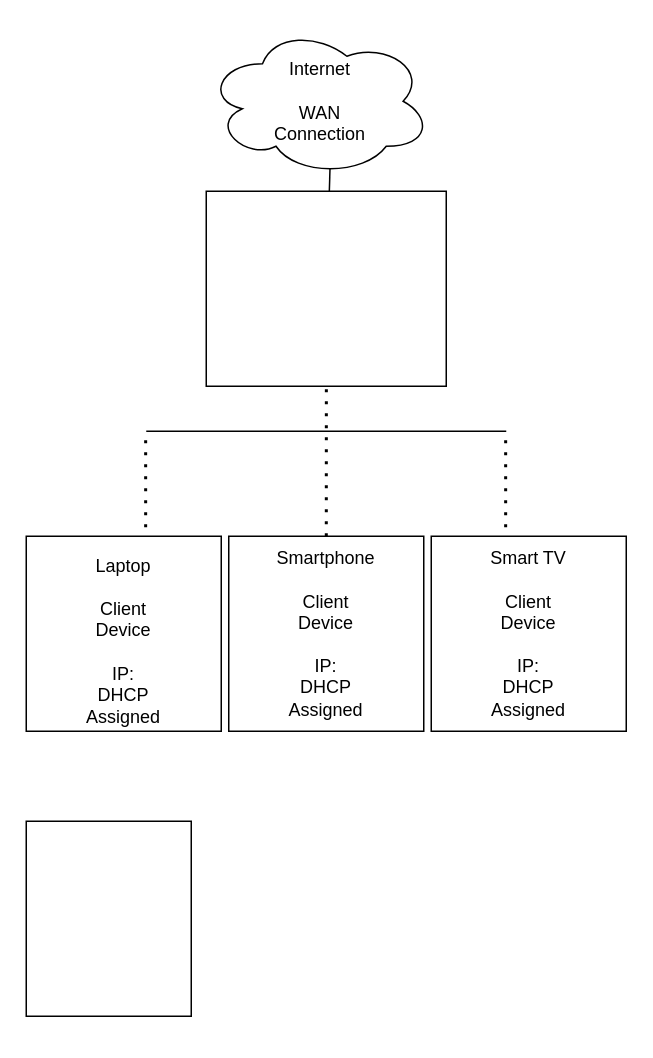
This 653x1058 diagram has some shape labels left out. Each missing label, with the centre of its shape:
Home Router Gateway: 192.168.1.1 DHCP Server: Enabled: (x=325, y=288)
Network Services DNS: 8.8.8.8 DHCP: Enabled: (x=108, y=918)
